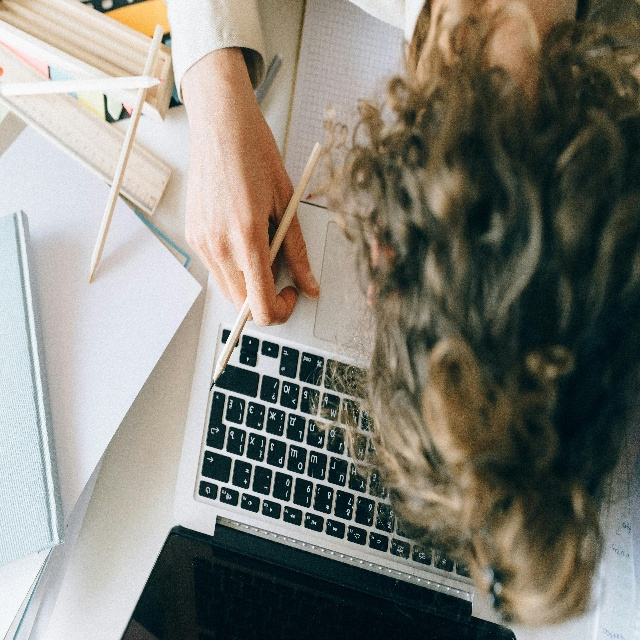Sin_guantes: (183, 115, 321, 326)
